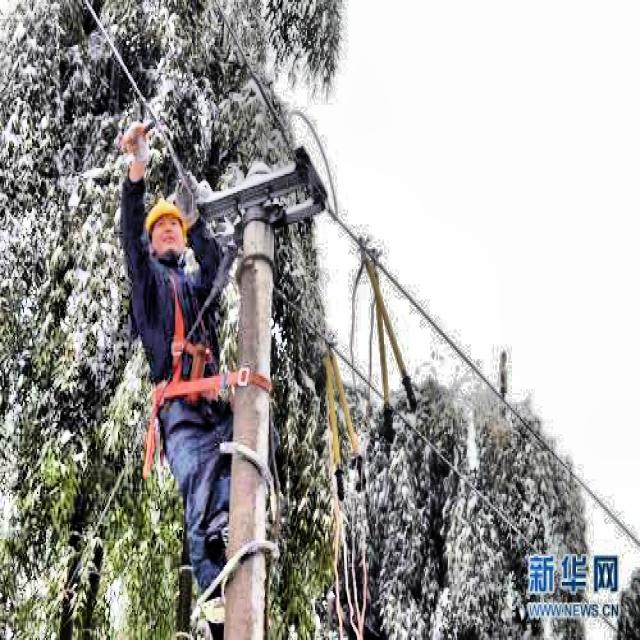helmet: (146, 194, 187, 264)
